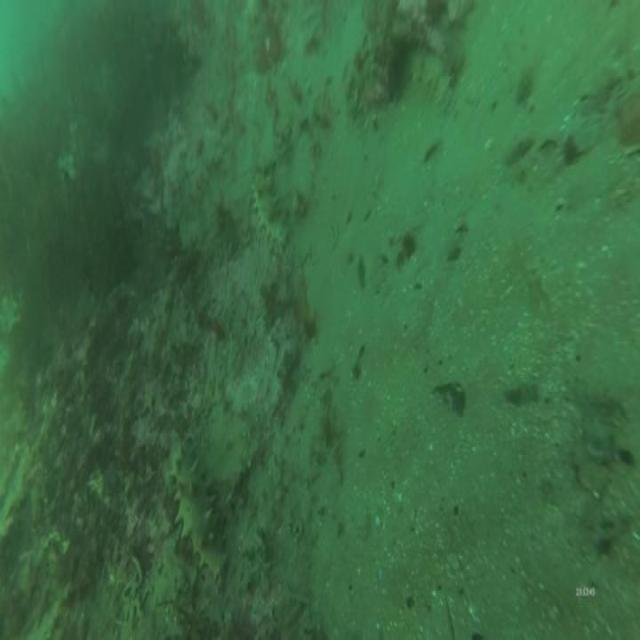holothurian: (165, 434, 231, 584), (250, 164, 292, 250)
